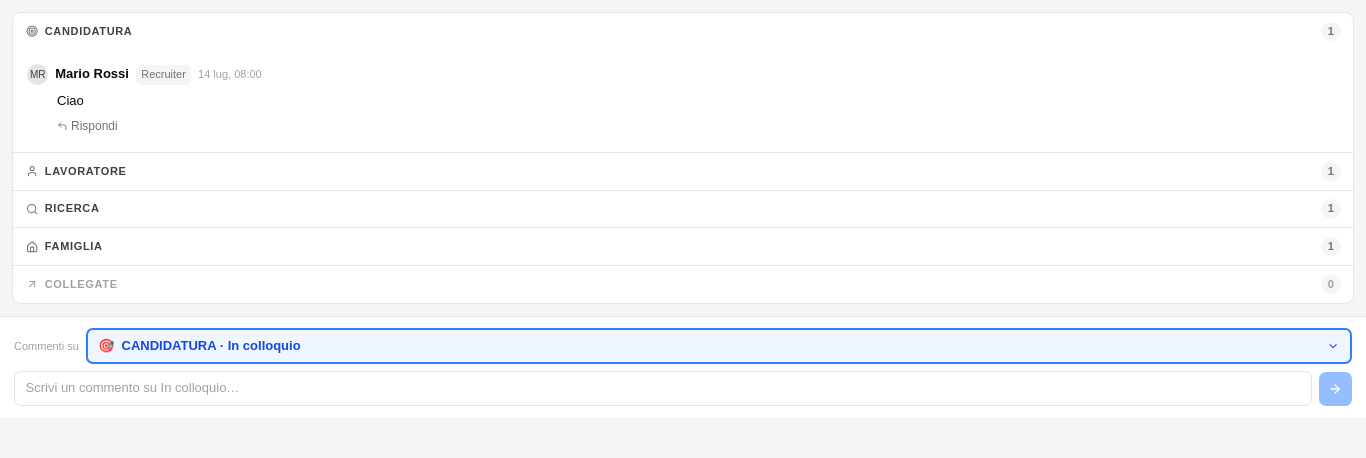
Scenario: Comment chip-section sync › updates the target chip and placeholder when the lavoratore section opens
Click the button "LAVORATORE 1": (86, 170) 13,153 -> 1353,190
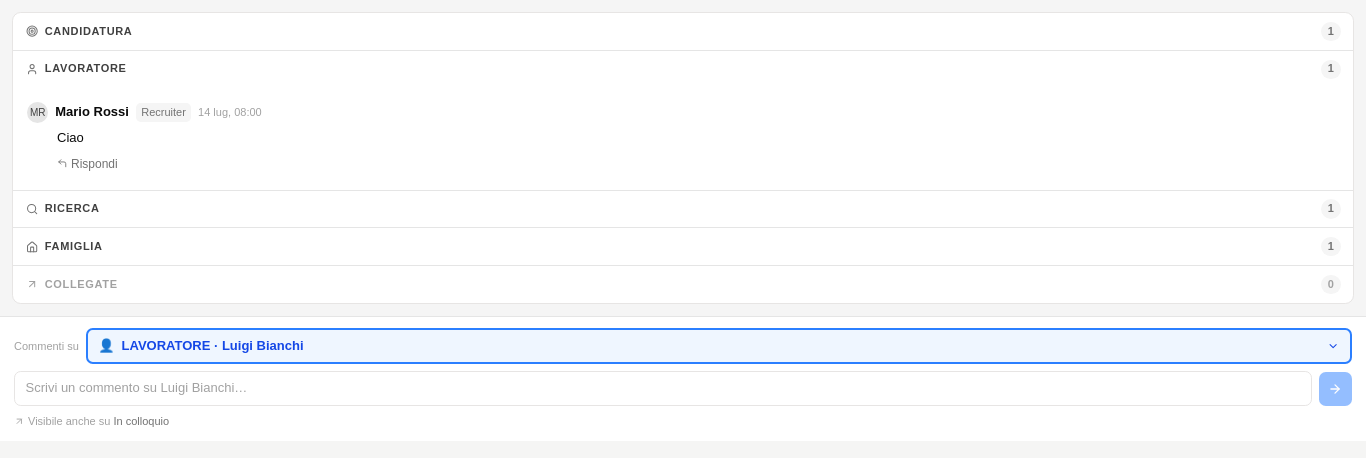
Check: the button with test id "comments-target-chip" shows "LAVORATORE · Luigi Bianchi", box 86,328 -> 1352,364
